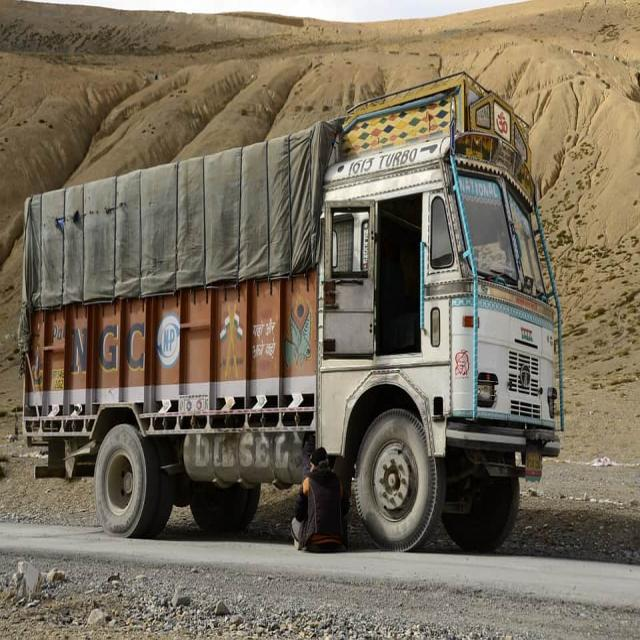Truck: (23, 48, 558, 542), (27, 104, 566, 559), (370, 88, 372, 98)
